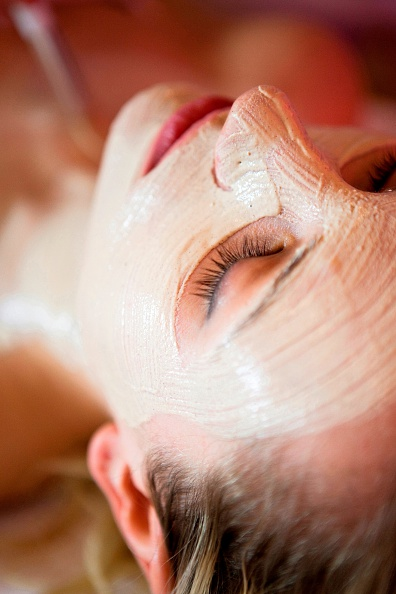deitado: (0, 29, 396, 594)
